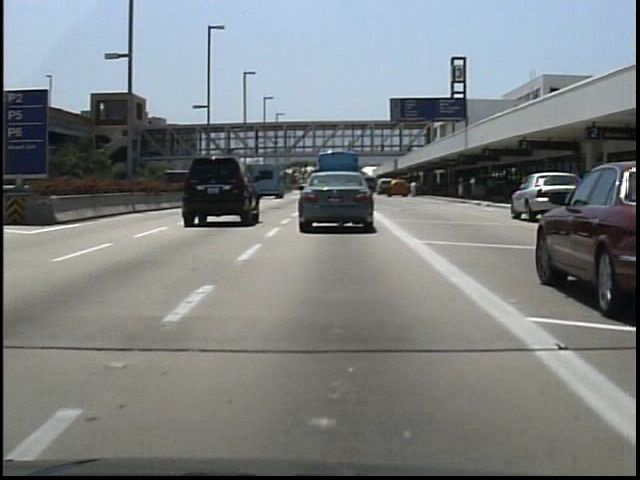person: (404, 177, 419, 202), (378, 136, 391, 158), (344, 136, 357, 156)
